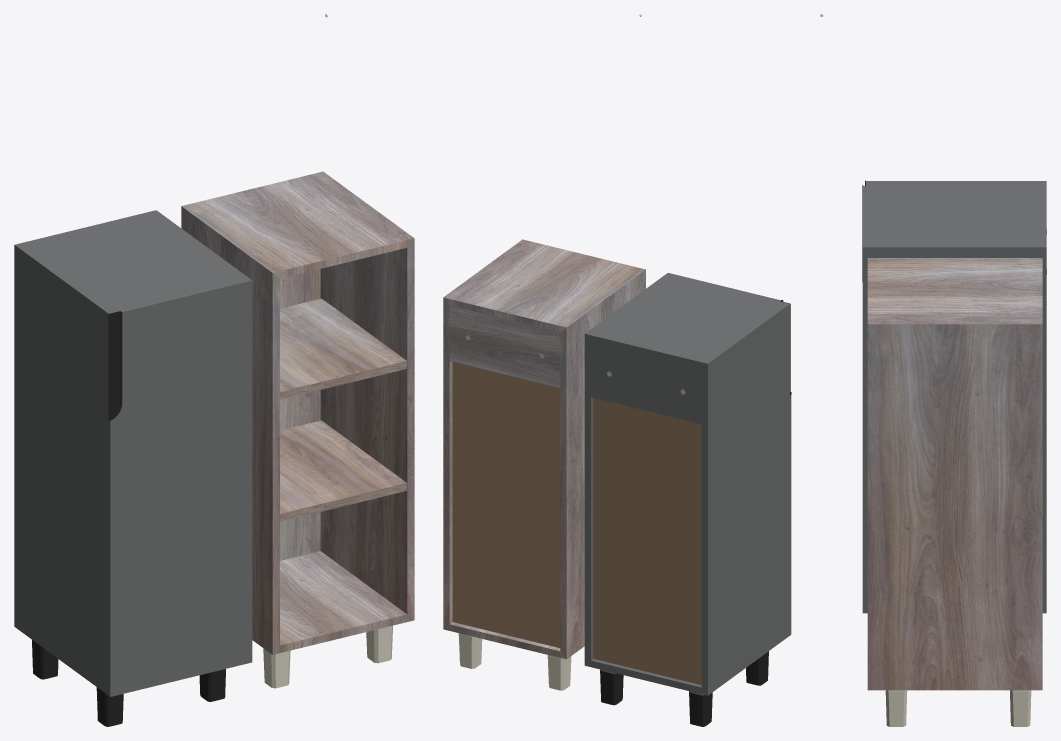
3 views of the same model, side by side, from view 1: azimuth 30°, elevation 25°; view 2: azimuth 150°, elevation 25°; view 3: azimuth 270°, elevation 25° (orthographic). The views are drawn at different scales.
Parts seen in each view (by area): view 1: Cube.005, group_0.268, Cube, group_0.003, group_0.004, group_0.365, group_0.389, Cube.002, Cube.001, group_0.326, group_0.329, group_0.327; view 2: Cube, Cube.005, group_0.369, group_0.365, group_0.268, Cube.003, group_0.329, group_0.328, Cube.004, group_0.326; view 3: Cube.005, Cube, group_0.268, Cube.001, Cube.004.
Boxes of the visible parts, x1,y1,x2,y2 form: Cube.005: (181,171,414,654); group_0.268: (105,277,252,696); Cube: (14,210,247,693); group_0.003: (280,298,406,399); group_0.004: (280,420,406,521); group_0.365: (280,269,320,560); group_0.389: (108,311,122,420); Cube.002: (263,648,290,688); Cube.001: (366,625,392,663); group_0.326: (96,687,123,726); group_0.329: (32,640,58,679); group_0.327: (199,669,225,701); Cube: (584,275,787,695); Cube.005: (443,239,645,659); group_0.369: (593,398,701,684); group_0.365: (452,362,560,647); group_0.268: (664,273,791,637); Cube.003: (547,655,571,690); group_0.329: (689,691,712,726); group_0.328: (600,670,623,705); Cube.004: (458,633,482,668); group_0.326: (746,651,768,685); Cube.005: (867,258,1042,690); Cube: (871,181,1046,613); group_0.268: (862,181,871,613); Cube.001: (885,690,907,726); Cube.004: (1010,691,1031,726).
Size of the model in its own units: 0.7568 by 1.64 by 0.5054.
Materials: 19 (3 with a texture image).
